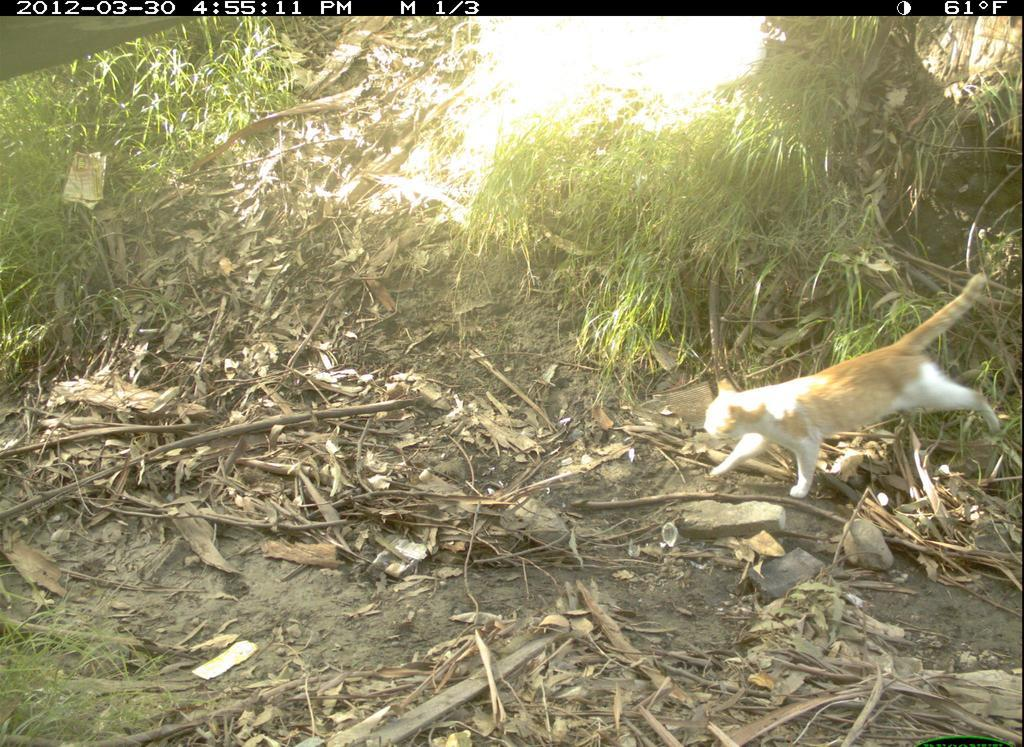cat: (699, 269, 1010, 504)
